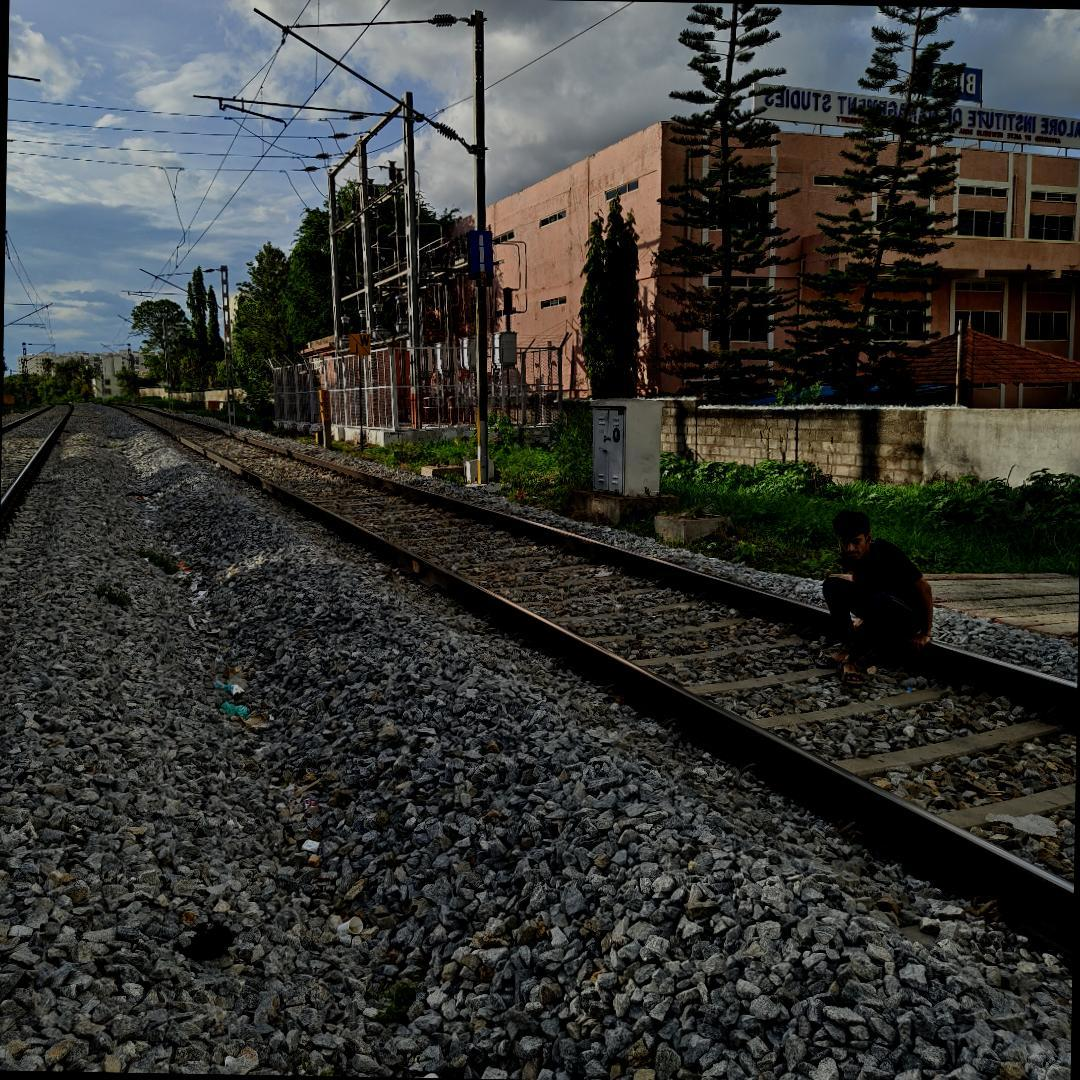sitting: (814, 492, 954, 681)
